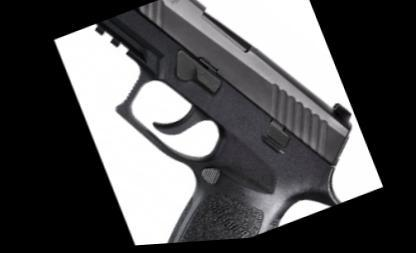pistol: (62, 0, 382, 248)
